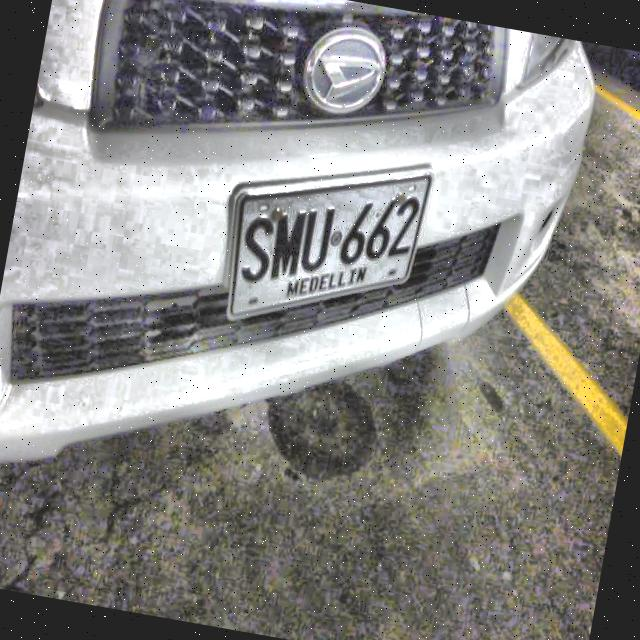plate: (230, 176, 431, 317)
